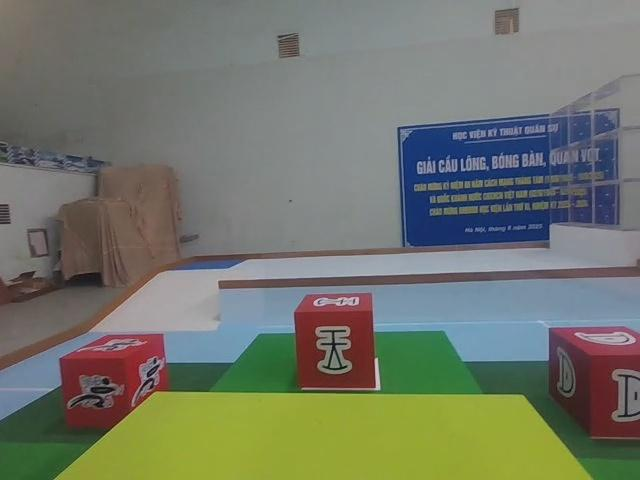R1: (59, 333, 167, 428)
R2 Real: (549, 324, 640, 441), (293, 293, 377, 391)
